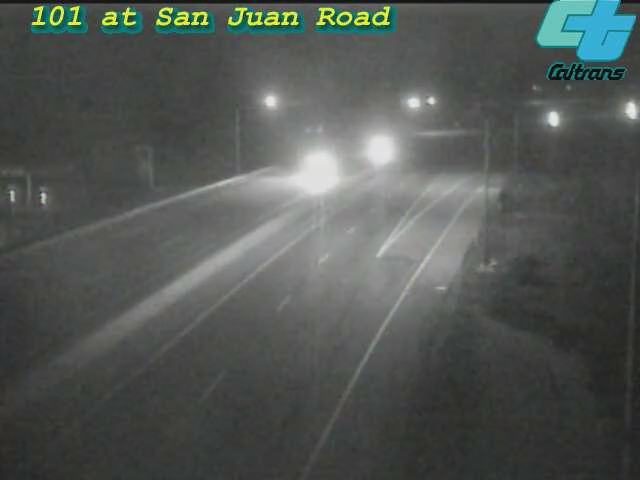vehicle: (277, 124, 357, 204), (359, 121, 409, 171), (529, 95, 579, 145), (603, 86, 640, 136)
